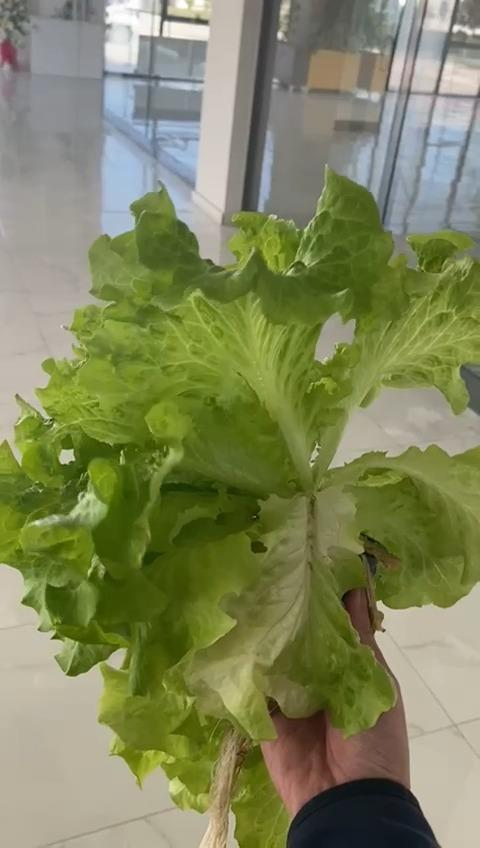Healthy Lettuce: (0, 168, 480, 848)
